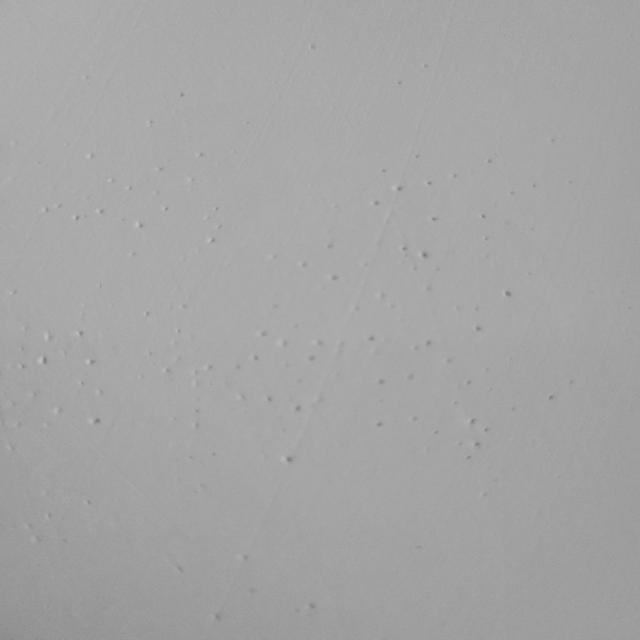rough and patchy surface: (5, 103, 635, 476)
